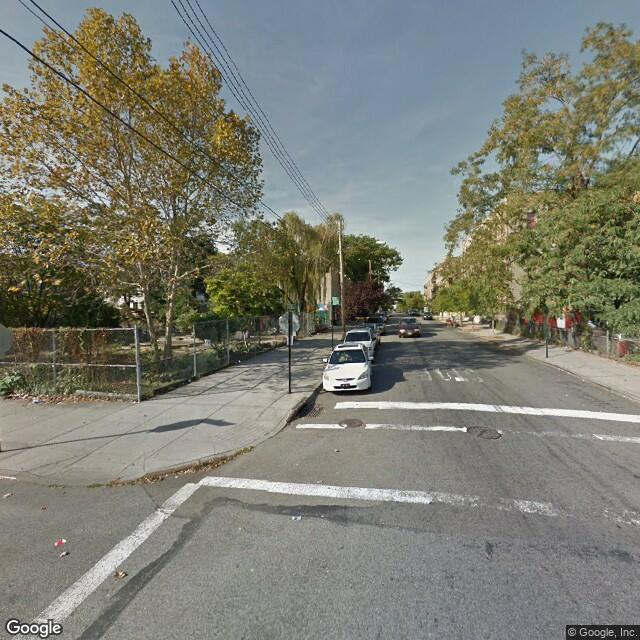litter: (114, 570, 131, 579), (288, 515, 304, 523), (1, 490, 12, 501), (53, 538, 69, 544), (56, 551, 71, 557)
